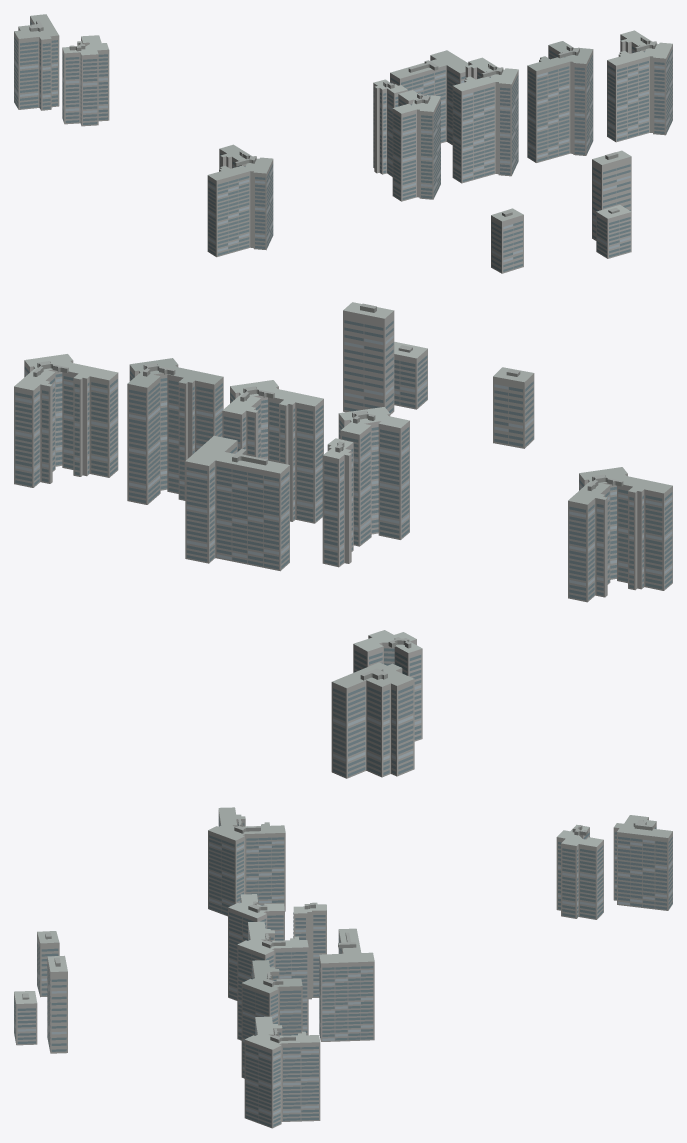
The model's file is apt-a10026370.glb.
3 renders of one model, top to bottom at view 1: azimuth 30°, elevation 25°; view 2: azimuth 150°, elevation 25°; view 3: azimuth 270°, elevation 25°, orthographic. The views are drawn at different scales.
Visible parts, largest first — view 1: apt-a10026370; view 2: apt-a10026370; view 3: apt-a10026370.
Part boxes in pixels (x1,y1,x2,y2): apt-a10026370: [14, 14, 672, 273]; apt-a10026370: [14, 302, 672, 778]; apt-a10026370: [14, 807, 672, 1128].
Size of the model in its own units: 361 by 68 by 414.
